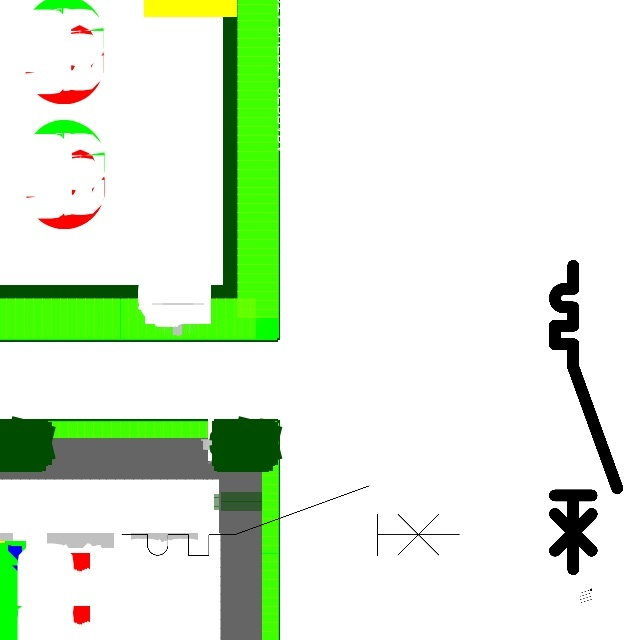interruptor_termomagnetico: (113, 477, 468, 564), (547, 258, 625, 577)
